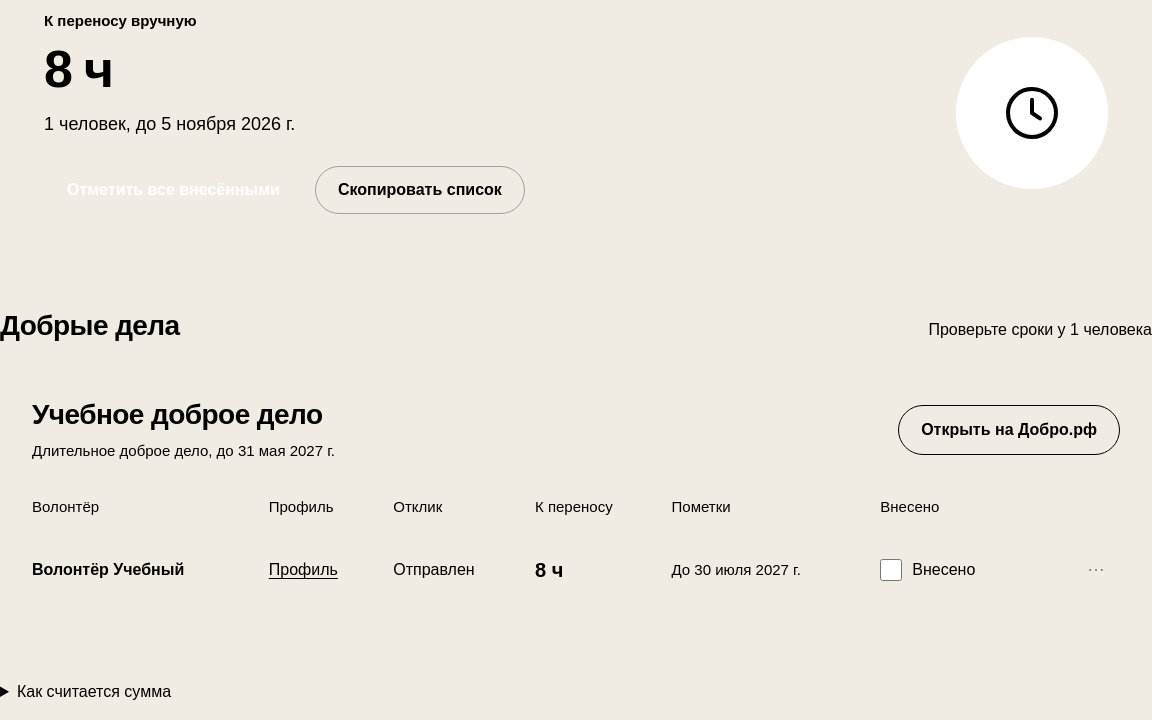
Test case: labels the daily cap, overlapping minutes and event-duration trimming separately
This screenshot has width=1152, height=720.
(page scrolled)
What coordinates should you click on to do the following:
click the button named "Подробнее: Волонтёр Учебный"
I would click on:
 (1096, 570)
Its box is [1076,550,1116,590].
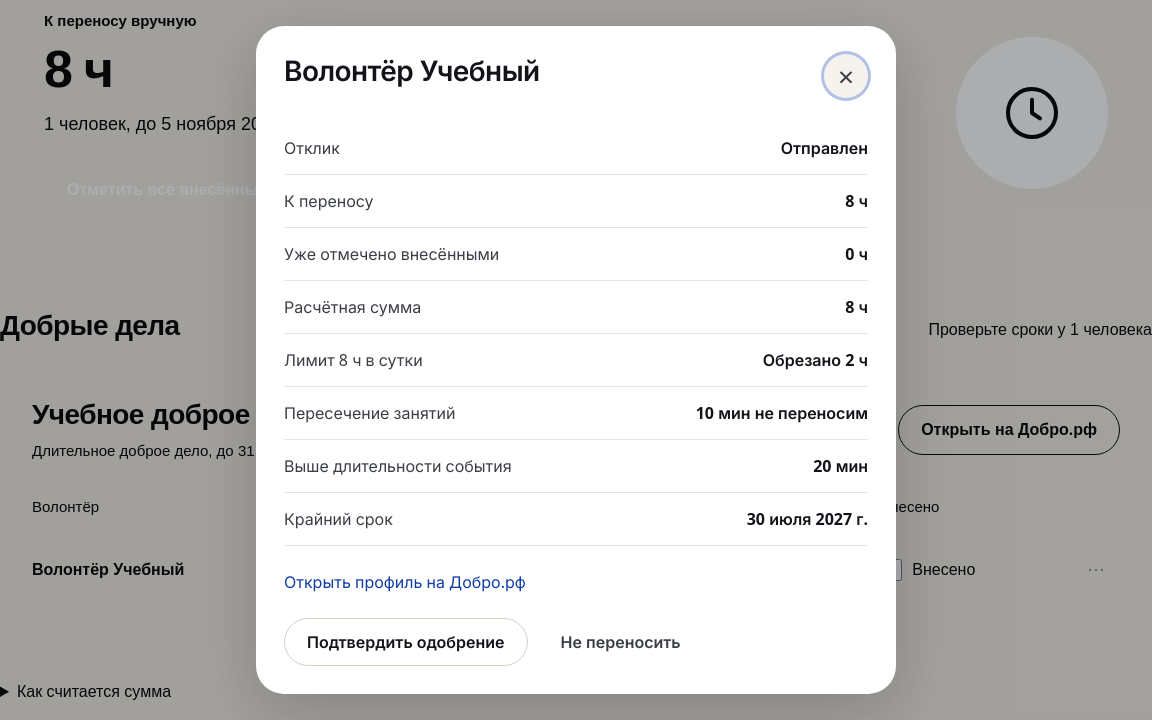
expect the text "Пересечение занятий" is shown: met, box [284,401,455,425]
expect the text "10 мин не переносим" is shown: met, box [696,401,868,425]
expect the text "Выше длительности события" is shown: met, box [284,454,512,478]
